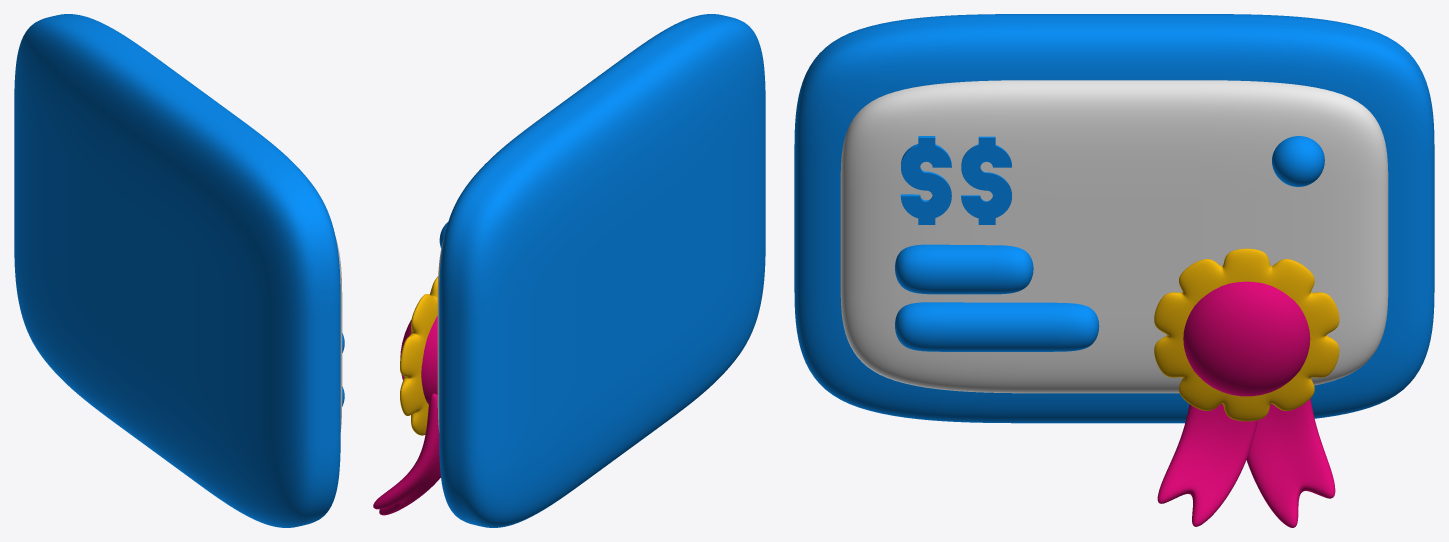
File: bond-certificate-6507825-0.glb
3 views of the same model, side by side, from view 1: azimuth 30°, elevation 25°; view 2: azimuth 150°, elevation 25°; view 3: azimuth 270°, elevation 25° (orthographic). The views are drawn at different scales.
Visible parts, largest first — view 1: Cube, Cube.001; view 2: Cube, Circle, Cube.006, Icosphere, Cube.001; view 3: Cube.001, Cube, Circle, Icosphere, Cube.002, Cube.006, Cube.005, Cube.003, Text.006, Text.001, Icosphere.001.
Part boxes in pixels (x1=…): Cube: x1=14, y1=14, x2=340, y2=527; Cube.001: x1=335, y1=237, x2=342, y2=431; Cube: x1=439, y1=14, x2=765, y2=527; Circle: x1=400, y1=276, x2=438, y2=435; Cube.006: x1=373, y1=393, x2=440, y2=515; Icosphere: x1=400, y1=316, x2=437, y2=404; Cube.001: x1=437, y1=237, x2=444, y2=432; Cube.001: x1=840, y1=80, x2=1388, y2=393; Cube: x1=794, y1=14, x2=1434, y2=423; Circle: x1=1154, y1=248, x2=1339, y2=421; Icosphere: x1=1183, y1=281, x2=1310, y2=396; Cube.002: x1=895, y1=302, x2=1099, y2=351; Cube.006: x1=1246, y1=398, x2=1335, y2=527; Cube.005: x1=1157, y1=404, x2=1257, y2=526; Cube.003: x1=895, y1=244, x2=1033, y2=294; Text.006: x1=900, y1=136, x2=951, y2=224; Text.001: x1=961, y1=136, x2=1011, y2=224; Icosphere.001: x1=1272, y1=136, x2=1324, y2=186.
Bounding box in the file's own units: 2.51 × 5.34 × 7.12.
